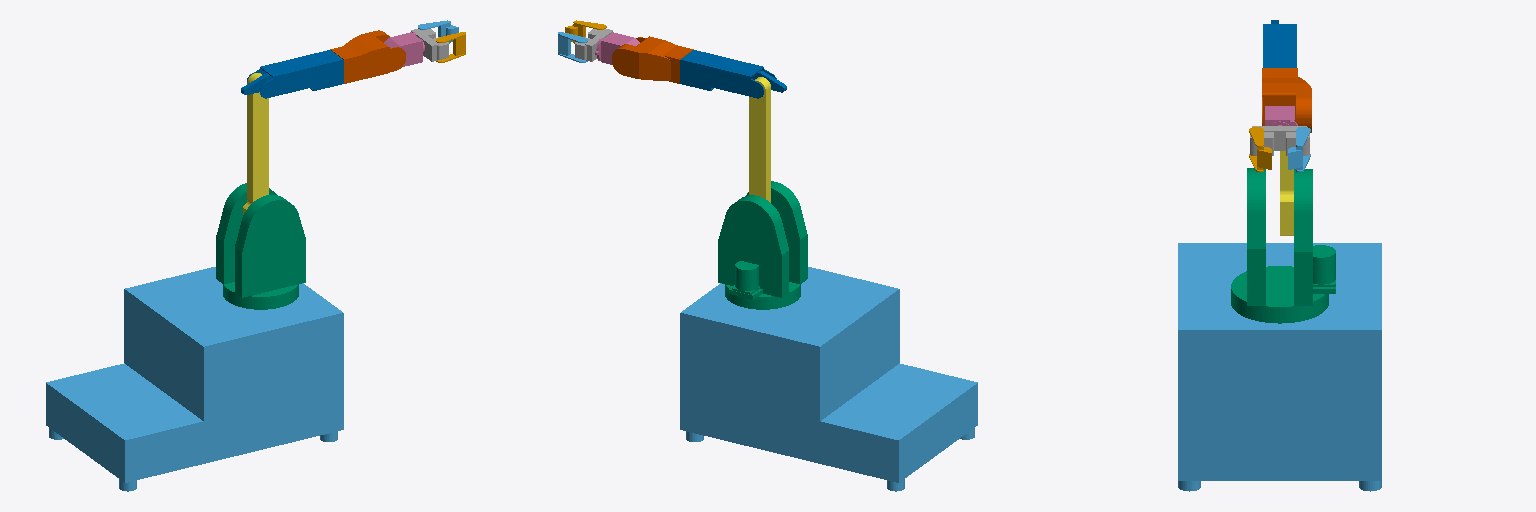
URDF robot description (kohaku):
<?xml version="1.0" ?>
<!-- =================================================================================== -->
<!-- |    This document was autogenerated by xacro from [local-path]/work/HR4C/standard_model/catkin_ws/src/kohaku_ros_pkgs/kohaku_description/urdf/kohaku.mesh.xacro | -->
<!-- |    EDITING THIS FILE BY HAND IS NOT RECOMMENDED                                 | -->
<!-- =================================================================================== -->
<robot name="kohaku">
    <link name="world" />
    <joint name="world_to_base_link" type="fixed">
        <parent link="world" />
        <child link="base_link" />
    </joint>
    <link name="base_link">
        <inertial>
            <origin rpy="0 0 0" xyz="-0.12 0.0 0.06" />
            <mass value="10.0" />
            <inertia ixx="0.101" ixy="0.0" ixz="0.0" iyy="0.194" iyz="0.0" izz="0.2148" />
        </inertial>
        <visual>
            <origin rpy="0 0 0" xyz="-0.13 0 0.058" />
            <geometry>
                <box size="0.43 0.27 0.08" />
            </geometry>
            <material name="_" />
        </visual>
        <visual>
            <origin rpy="0 0 0" xyz="-0.053 0 0.168" />
            <geometry>
                <box size="0.275 0.27 0.14" />
            </geometry>
            <material name="_" />
        </visual>
        <visual>
            <origin rpy="0 0 0" xyz="0.065 0.12 0.009" />
            <geometry>
                <cylinder length="0.018" radius="0.0155" />
            </geometry>
            <material name="_" />
        </visual>
        <visual>
            <origin rpy="0 0 0" xyz="0.065 -0.12 0.009" />
            <geometry>
                <cylinder length="0.018" radius="0.0155" />
            </geometry>
            <material name="_" />
        </visual>
        <visual>
            <origin rpy="0 0 0" xyz="-0.330 0.12 0.009" />
            <geometry>
                <cylinder length="0.018" radius="0.0155" />
            </geometry>
            <material name="_" />
        </visual>
        <visual>
            <origin rpy="0 0 0" xyz="-0.330 -0.12 0.009" />
            <geometry>
                <cylinder length="0.018" radius="0.0155" />
            </geometry>
            <material name="_" />
        </visual>
        <collision>
            <origin rpy="0 0 0" xyz="-0.13 0 0.058" />
            <geometry>
                <box size="0.43 0.27 0.08" />
            </geometry>
        </collision>
        <collision>
            <origin rpy="0 0 0" xyz="-0.053 0 0.168" />
            <geometry>
                <box size="0.275 0.27 0.14" />
            </geometry>
        </collision>
        <collision>
            <origin rpy="0 0 0" xyz="0.065 0.12 0.009" />
            <geometry>
                <cylinder length="0.018" radius="0.0155" />
            </geometry>
        </collision>
        <collision>
            <origin rpy="0 0 0" xyz="0.065 -0.12 0.009" />
            <geometry>
                <cylinder length="0.018" radius="0.0155" />
            </geometry>
        </collision>
        <collision>
            <origin rpy="0 0 0" xyz="-0.330 0.12 0.009" />
            <geometry>
                <cylinder length="0.018" radius="0.0155" />
            </geometry>
        </collision>
        <collision>
            <origin rpy="0 0 0" xyz="-0.330 -0.12 0.009" />
            <geometry>
                <cylinder length="0.018" radius="0.0155" />
            </geometry>
        </collision>
    </link>
    <link name="shoulder_link">
        <inertial>
            <origin rpy="0 0 0" xyz="-0.0002483716377100001 0.002599957397357383 0.07656293547299953" />
            <mass value="4.599230696027372" />
            <inertia ixx="0.018029" ixy="3.5e-05" ixz="2.8e-05" iyy="0.017921" iyz="0.000417" izz="0.01062" />
        </inertial>
        <visual>
            <origin rpy="0 0 0" xyz="0.015 -0.165 -0.360019" />
            <geometry>
                <mesh filename="package://kohaku_description/meshes/left_shoulder_link_1.stl" scale="0.001 0.001 0.001" />
            </geometry>
            <material name="_" />
        </visual>
        <collision>
            <origin rpy="0 0 0" xyz="0.015 -0.165 -0.360019" />
            <geometry>
                <mesh filename="package://kohaku_description/meshes/left_shoulder_link_1.stl" scale="0.001 0.001 0.001" />
            </geometry>
        </collision>
    </link>
    <link name="upperarm_link">
        <inertial>
            <origin rpy="0 0 0" xyz="5.075907070683193e-05 0.0055551687418621265 0.06093355009099832" />
            <mass value="1.6464184320412805" />
            <inertia ixx="0.012435" ixy="2e-06" ixz="5e-06" iyy="0.01254" iyz="-0.000385" izz="0.000862" />
        </inertial>
        <visual>
            <origin rpy="0 0 0" xyz="0.015 -0.16498 -0.502019" />
            <geometry>
                <mesh filename="package://kohaku_description/meshes/left_upperarm_link_1.stl" scale="0.001 0.001 0.001" />
            </geometry>
            <material name="_" />
        </visual>
        <collision>
            <origin rpy="0 0 0" xyz="0.015 -0.16498 -0.502019" />
            <geometry>
                <mesh filename="package://kohaku_description/meshes/left_upperarm_link_1.stl" scale="0.001 0.001 0.001" />
            </geometry>
        </collision>
    </link>
    <link name="forearm_link">
        <inertial>
            <origin rpy="0 0 0" xyz="-0.0028629714869261927 -0.0029849490325699057 0.0665229146241868" />
            <mass value="0.5147558278242914" />
            <inertia ixx="0.001435" ixy="1e-06" ixz="-4.1e-05" iyy="0.001418" iyz="-5.7e-05" izz="0.000194" />
        </inertial>
        <visual>
            <origin rpy="0 0 0" xyz="0.015 -0.164945 -0.752019" />
            <geometry>
                <mesh filename="package://kohaku_description/meshes/left_forearm_link_1.stl" scale="0.001 0.001 0.001" />
            </geometry>
            <material name="_" />
        </visual>
        <collision>
            <origin rpy="0 0 0" xyz="0.015 -0.164945 -0.752019" />
            <geometry>
                <mesh filename="package://kohaku_description/meshes/left_forearm_link_1.stl" scale="0.001 0.001 0.001" />
            </geometry>
        </collision>
    </link>
    <link name="wrist_yaw_link">
        <inertial>
            <origin rpy="0 0 0" xyz="-0.0012123899494678285 0.00799629493788756 0.05493382214308451" />
            <mass value="1.0197481013710548" />
            <inertia ixx="0.001319" ixy="7e-06" ixz="2.4e-05" iyy="0.001172" iyz="-0.000192" izz="0.000585" />
        </inertial>
        <visual>
            <origin rpy="0 0 0" xyz="0.015 -0.164874 -0.902019" />
            <geometry>
                <mesh filename="package://kohaku_description/meshes/left_wrist_yaw_link_1.stl" scale="0.001 0.001 0.001" />
            </geometry>
            <material name="_" />
        </visual>
        <collision>
            <origin rpy="0 0 0" xyz="0.015 -0.164874 -0.902019" />
            <geometry>
                <mesh filename="package://kohaku_description/meshes/left_wrist_yaw_link_1.stl" scale="0.001 0.001 0.001" />
            </geometry>
        </collision>
    </link>
    <link name="wrist_pitch_link">
        <inertial>
            <origin rpy="0 0 0" xyz="4.65267917359076e-05 0.0005212096653225973 0.03002034855665814" />
            <mass value="0.3895986537799301" />
            <inertia ixx="0.000199" ixy="-0.0" ixz="1e-06" iyy="0.000188" iyz="-6e-06" izz="0.000103" />
        </inertial>
        <visual>
            <origin rpy="0 0 0" xyz="0.015 -0.16486 -1.002019" />
            <geometry>
                <mesh filename="package://kohaku_description/meshes/left_wrist_pitch_link_1.stl" scale="0.001 0.001 0.001" />
            </geometry>
            <material name="_" />
        </visual>
        <collision>
            <origin rpy="0 0 0" xyz="0.015 -0.16486 -1.002019" />
            <geometry>
                <mesh filename="package://kohaku_description/meshes/left_wrist_pitch_link_1.stl" scale="0.001 0.001 0.001" />
            </geometry>
        </collision>
    </link>
    <link name="hand_palm_link">
        <inertial>
            <origin rpy="0 0 0" xyz="0.0002318570856491807 -6.828401333128231e-05 0.017667823933595006" />
            <mass value="0.32135536491616284" />
            <inertia ixx="0.000221" ixy="-0.0" ixz="-0.0" iyy="5.4e-05" iyz="-0.0" izz="0.000213" />
        </inertial>
        <visual>
            <origin rpy="0 0 0" xyz="0.015 -0.164851 -1.067019" />
            <geometry>
                <mesh filename="package://kohaku_description/meshes/left_hand_palm_link_1.stl" scale="0.001 0.001 0.001" />
            </geometry>
            <material name="_" />
        </visual>
        <collision>
            <origin rpy="0 0 0" xyz="0.015 -0.164851 -1.067019" />
            <geometry>
                <mesh filename="package://kohaku_description/meshes/left_hand_palm_link_1.stl" scale="0.001 0.001 0.001" />
            </geometry>
        </collision>
    </link>
    <link name="r_finger_link">
        <inertial>
            <origin rpy="0 0 0" xyz="0.00015745354838760627 0.006862307384075728 0.03618445014614924" />
            <mass value="0.07719980680600205" />
            <inertia ixx="2e-05" ixy="0.0" ixz="0.0" iyy="2.8e-05" iyz="-4e-06" izz="1.5e-05" />
        </inertial>
        <visual>
            <origin rpy="0 0 0" xyz="0.015 -0.133848 -1.089074" />
            <geometry>
                <mesh filename="package://kohaku_description/meshes/left_r_finger_link_1.stl" scale="0.001 0.001 0.001" />
            </geometry>
            <material name="_" />
        </visual>
        <collision>
            <origin rpy="0 0 0" xyz="0.015 -0.133848 -1.089074" />
            <geometry>
                <mesh filename="package://kohaku_description/meshes/left_r_finger_link_1.stl" scale="0.001 0.001 0.001" />
            </geometry>
        </collision>
    </link>
    <link name="l_finger_link">
        <inertial>
            <origin rpy="0 0 0" xyz="-0.00015745364544006435 -0.006872074383145355 0.03618219144765589" />
            <mass value="0.07719980680600244" />
            <inertia ixx="2e-05" ixy="0.0" ixz="-0.0" iyy="2.8e-05" iyz="4e-06" izz="1.5e-05" />
        </inertial>
        <visual>
            <origin rpy="0 0 0" xyz="0.015 -0.195848 -1.089083" />
            <geometry>
                <mesh filename="package://kohaku_description/meshes/left_l_finger_link_1.stl" scale="0.001 0.001 0.001" />
            </geometry>
            <material name="_" />
        </visual>
        <collision>
            <origin rpy="0 0 0" xyz="0.015 -0.195848 -1.089083" />
            <geometry>
                <mesh filename="package://kohaku_description/meshes/left_l_finger_link_1.stl" scale="0.001 0.001 0.001" />
            </geometry>
        </collision>
    </link>
    <joint name="shoulder_yaw" type="revolute">
        <origin rpy="0 0 0" xyz="0.0 0.0 0.238" />
        <parent link="base_link" />
        <child link="shoulder_link" />
        <axis xyz="0.0 -0.00014 1.0" />
        <limit effort="100" lower="-2.7979" upper="2.7979" velocity="100" />
    </joint>
    <joint name="shoulder_pitch" type="revolute">
        <origin rpy="0 0 0" xyz="0.0 -2e-05 0.142" />
        <parent link="shoulder_link" />
        <child link="upperarm_link" />
        <axis xyz="-0.0 1.0 0.00014" />
        <limit effort="100" lower="-0.785" upper="2.35619" velocity="100" />
    </joint>
    <joint name="elbow_pitch" type="revolute">
        <origin rpy="0 0 0" xyz="0.0 -3.5e-05 0.25" />
        <parent link="upperarm_link" />
        <child link="forearm_link" />
        <axis xyz="-0.0 1.0 0.00014" />
        <limit effort="100" lower="0.436" upper="2.705" velocity="100" />
    </joint>
    <joint name="wrist_yaw" type="revolute">
        <origin rpy="0 0 0" xyz="0.0 -7.1e-05 0.15" />
        <parent link="forearm_link" />
        <child link="wrist_yaw_link" />
        <axis xyz="0.0 -0.00014 1.0" />
        <limit effort="100" lower="-2.094" upper="2.094" velocity="100" />
    </joint>
    <joint name="wrist_pitch" type="revolute">
        <origin rpy="0 0 0" xyz="0.0 -1.4e-05 0.1" />
        <parent link="wrist_yaw_link" />
        <child link="wrist_pitch_link" />
        <axis xyz="-0.0 1.0 0.00014" />
        <limit effort="100" lower="-1.57" upper="1.57" velocity="100" />
    </joint>
    <joint name="hand_yaw" type="revolute">
        <origin rpy="0 0 0" xyz="0.0 -9e-06 0.065" />
        <parent link="wrist_pitch_link" />
        <child link="hand_palm_link" />
        <axis xyz="-0.0 -0.00014 1.0" />
        <limit effort="100" lower="-2.967" upper="2.967" velocity="100" />
    </joint>
    <joint name="r_finger_joint" type="revolute">
        <origin rpy="0 0 0" xyz="0.0 -0.031003 0.022055" />
        <parent link="hand_palm_link" />
        <child link="r_finger_link" />
        <axis xyz="1.0 0.0 0.0" />
        <limit effort="100" lower="-0.9" upper="1.57" velocity="100" />
    </joint>
    <joint name="l_finger_joint" type="revolute">
        <origin rpy="0 0 0" xyz="0.0 0.030997 0.022064" />
        <parent link="hand_palm_link" />
        <child link="l_finger_link" />
        <axis xyz="-1.0 -0.0 -0.0" />
        <limit effort="100" lower="-0.9" upper="1.57" velocity="100" />
    </joint>
    <transmission name="trans_shoulder_yaw">
        <type>transmission_interface/SimpleTransmission</type>
        <joint name="shoulder_yaw">
            <hardwareInterface>hardware_interface/EffortJointInterface</hardwareInterface>
        </joint>
        <actuator name="shoulder_yaw_motor">
            <hardwareInterface>hardware_interface/EffortJointInterface</hardwareInterface>
            <mechanicalReduction>1</mechanicalReduction>
        </actuator>
    </transmission>
    <transmission name="trans_shoulder_pitch">
        <type>transmission_interface/SimpleTransmission</type>
        <joint name="shoulder_pitch">
            <hardwareInterface>hardware_interface/EffortJointInterface</hardwareInterface>
        </joint>
        <actuator name="shoulder_pitch_motor">
            <hardwareInterface>hardware_interface/EffortJointInterface</hardwareInterface>
            <mechanicalReduction>1</mechanicalReduction>
        </actuator>
    </transmission>
    <transmission name="trans_elbow_pitch">
        <type>transmission_interface/SimpleTransmission</type>
        <joint name="elbow_pitch">
            <hardwareInterface>hardware_interface/EffortJointInterface</hardwareInterface>
        </joint>
        <actuator name="elbow_pitch_motor">
            <hardwareInterface>hardware_interface/EffortJointInterface</hardwareInterface>
            <mechanicalReduction>1</mechanicalReduction>
        </actuator>
    </transmission>
    <transmission name="trans_wrist_yaw">
        <type>transmission_interface/SimpleTransmission</type>
        <joint name="wrist_yaw">
            <hardwareInterface>hardware_interface/EffortJointInterface</hardwareInterface>
        </joint>
        <actuator name="wrist_yaw_motor">
            <hardwareInterface>hardware_interface/EffortJointInterface</hardwareInterface>
            <mechanicalReduction>1</mechanicalReduction>
        </actuator>
    </transmission>
    <transmission name="trans_wrist_pitch">
        <type>transmission_interface/SimpleTransmission</type>
        <joint name="wrist_pitch">
            <hardwareInterface>hardware_interface/EffortJointInterface</hardwareInterface>
        </joint>
        <actuator name="wrist_pitch_motor">
            <hardwareInterface>hardware_interface/EffortJointInterface</hardwareInterface>
            <mechanicalReduction>1</mechanicalReduction>
        </actuator>
    </transmission>
    <transmission name="trans_hand_yaw">
        <type>transmission_interface/SimpleTransmission</type>
        <joint name="hand_yaw">
            <hardwareInterface>hardware_interface/EffortJointInterface</hardwareInterface>
        </joint>
        <actuator name="hand_yaw_motor">
            <hardwareInterface>hardware_interface/EffortJointInterface</hardwareInterface>
            <mechanicalReduction>1</mechanicalReduction>
        </actuator>
    </transmission>
    <transmission name="trans_r_finger_joint">
        <type>transmission_interface/SimpleTransmission</type>
        <joint name="r_finger_joint">
            <hardwareInterface>hardware_interface/EffortJointInterface</hardwareInterface>
        </joint>
        <actuator name="r_finger_joint_motor">
            <hardwareInterface>hardware_interface/EffortJointInterface</hardwareInterface>
            <mechanicalReduction>1</mechanicalReduction>
        </actuator>
    </transmission>
    <transmission name="trans_l_finger_joint">
        <type>transmission_interface/SimpleTransmission</type>
        <joint name="l_finger_joint">
            <hardwareInterface>hardware_interface/EffortJointInterface</hardwareInterface>
        </joint>
        <actuator name="l_finger_joint_motor">
            <hardwareInterface>hardware_interface/EffortJointInterface</hardwareInterface>
            <mechanicalReduction>1</mechanicalReduction>
        </actuator>
    </transmission>
    <gazebo>
        <plugin name="gazebo_ros_control">
            <robotNamespace>/</robotNamespace>
        </plugin>
    </gazebo>
</robot>

--- Facts derived from the render (not from the file) ---
3 views of the same robot in one strip: view 1: azimuth 30°, elevation 25°; view 2: azimuth 150°, elevation 25°; view 3: azimuth 270°, elevation 25° (orthographic).
Robot: kohaku — 10 links, 9 joints (8 revolute, 1 fixed); root link world; default pose: joints at zero except 1 at the middle of their limits (elbow_pitch = 1.57).
Visible links, largest first — view 1: base_link, shoulder_link, forearm_link, upperarm_link, wrist_yaw_link, wrist_pitch_link, hand_palm_link; view 2: base_link, shoulder_link, forearm_link, wrist_yaw_link, upperarm_link, wrist_pitch_link, hand_palm_link; view 3: base_link, shoulder_link, wrist_yaw_link, forearm_link, upperarm_link, hand_palm_link, r_finger_link, l_finger_link, wrist_pitch_link.
Boxes of the visible links, box(x1,y1,x2,y2) form: base_link: box(46, 267, 343, 491); shoulder_link: box(216, 183, 305, 309); forearm_link: box(241, 50, 343, 98); upperarm_link: box(243, 73, 268, 214); wrist_yaw_link: box(330, 30, 405, 83); wrist_pitch_link: box(384, 32, 424, 66); hand_palm_link: box(411, 29, 448, 61); base_link: box(680, 267, 977, 491); shoulder_link: box(718, 181, 807, 309); forearm_link: box(680, 50, 786, 98); wrist_yaw_link: box(612, 36, 693, 83); upperarm_link: box(749, 77, 770, 202); wrist_pitch_link: box(595, 32, 639, 64); hand_palm_link: box(575, 29, 612, 61); base_link: box(1178, 243, 1381, 491); shoulder_link: box(1231, 168, 1335, 323); wrist_yaw_link: box(1262, 68, 1311, 132); forearm_link: box(1263, 20, 1296, 67); upperarm_link: box(1280, 151, 1293, 235); hand_palm_link: box(1250, 126, 1309, 155); r_finger_link: box(1249, 127, 1271, 171); l_finger_link: box(1288, 127, 1310, 171); wrist_pitch_link: box(1265, 106, 1297, 125).
Size in the robot's own frame: 0.7406 by 0.271 by 0.6571 metres.
Meshes: 8 distinct files referenced, 8 mesh visuals loaded (8 binary STL).
